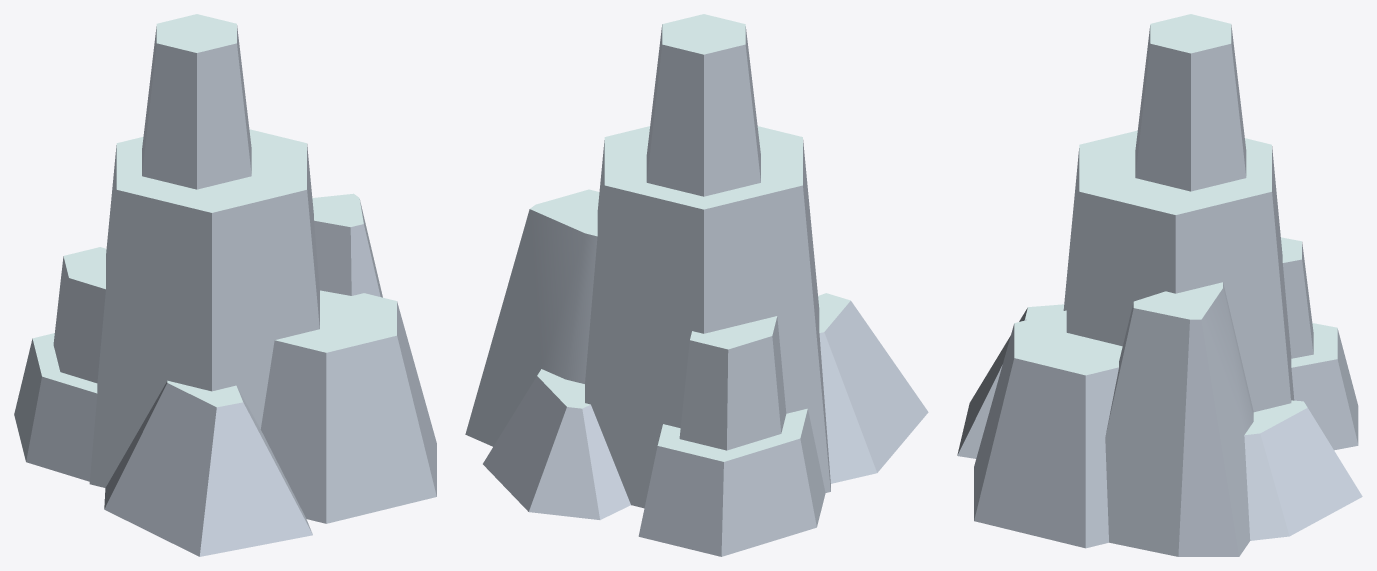
The model's file is rockFormationMedium.glb.
The picture shows the model from 3 angles, left to right: view 1: azimuth 30°, elevation 25°; view 2: azimuth 150°, elevation 25°; view 3: azimuth 270°, elevation 25°; orthographic projection. The views are drawn at different scales.
Visible parts, largest first — view 1: rockFormationMedium(Clone); view 2: rockFormationMedium(Clone); view 3: rockFormationMedium(Clone).
Boxes of the visible parts, x1,y1,x2,y2 form: rockFormationMedium(Clone): [14, 14, 436, 556]; rockFormationMedium(Clone): [465, 14, 928, 556]; rockFormationMedium(Clone): [957, 14, 1362, 556].
Size of the model in its own units: 0.7182 by 0.8299 by 0.7231.
